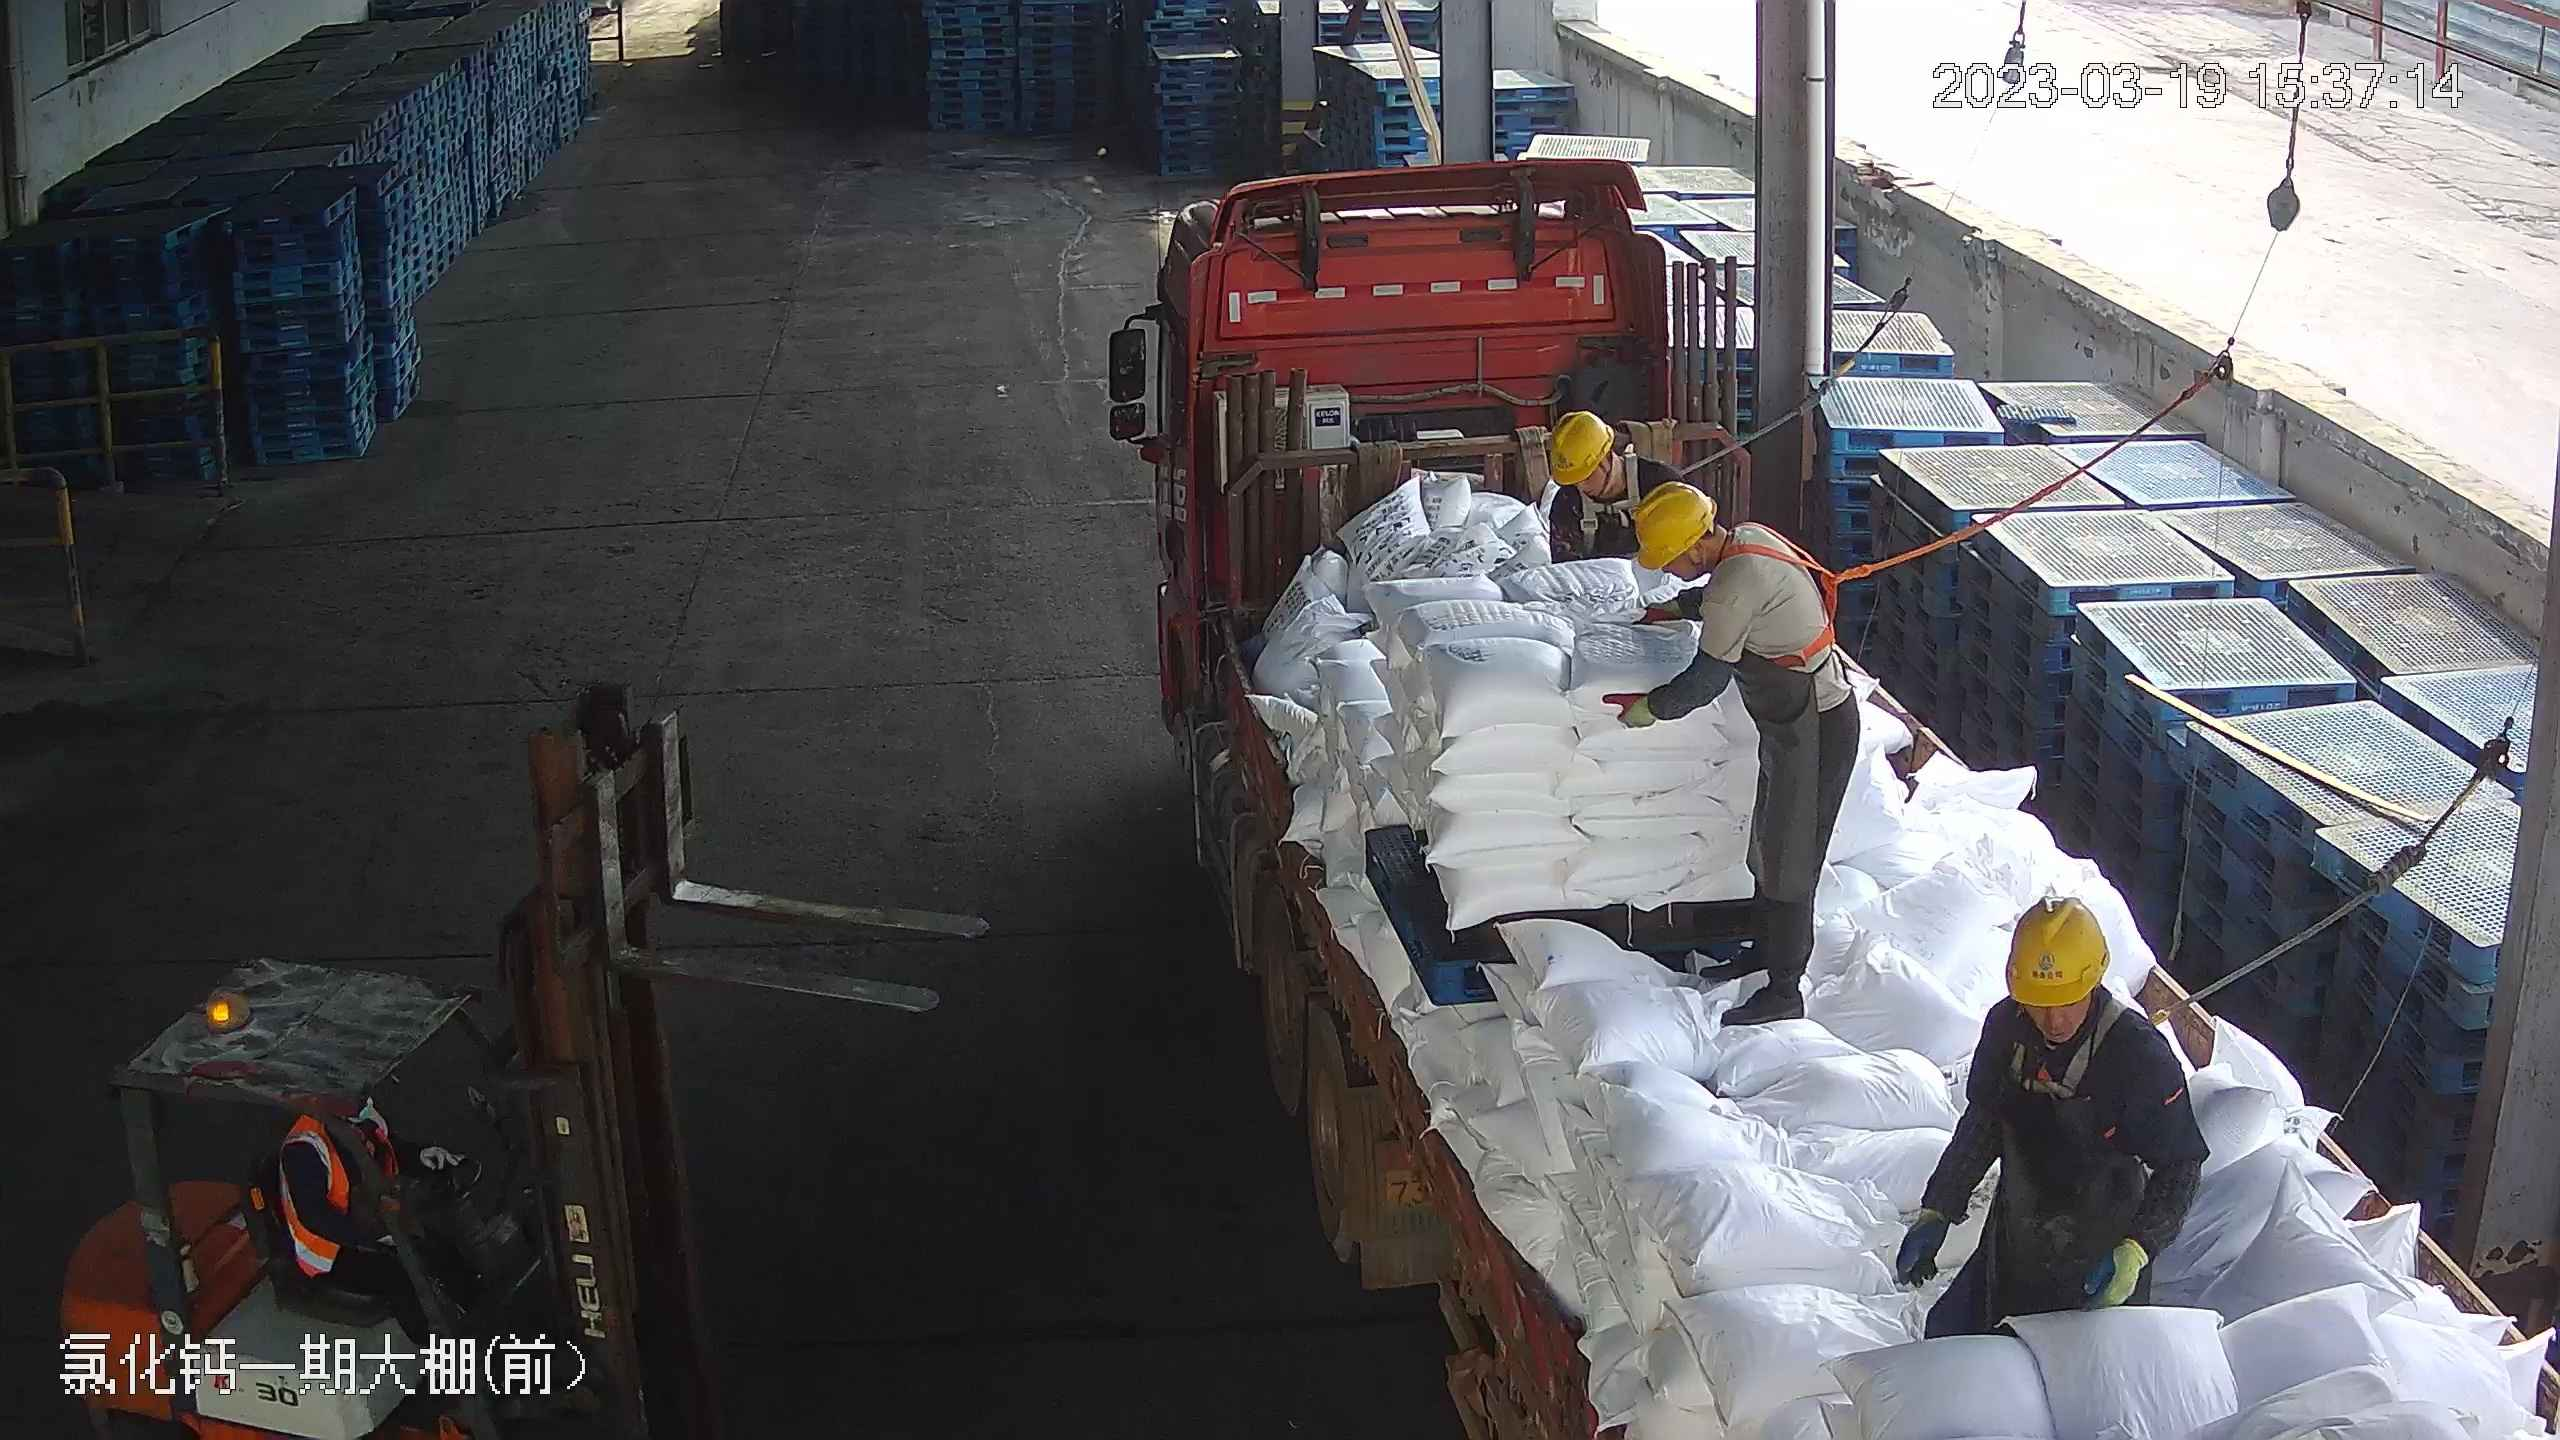belt: (1720, 525, 1859, 673), (2007, 991, 2178, 1096), (1569, 464, 1641, 547)
head: (1958, 895, 2181, 1106), (1631, 480, 1808, 631), (1541, 408, 1680, 517)
helmet: (2003, 894, 2111, 1008), (1629, 478, 1718, 570), (1547, 408, 1612, 483)
people: (1892, 890, 2203, 1334), (1610, 486, 1858, 1023)
truck: (1098, 159, 2535, 1440)
